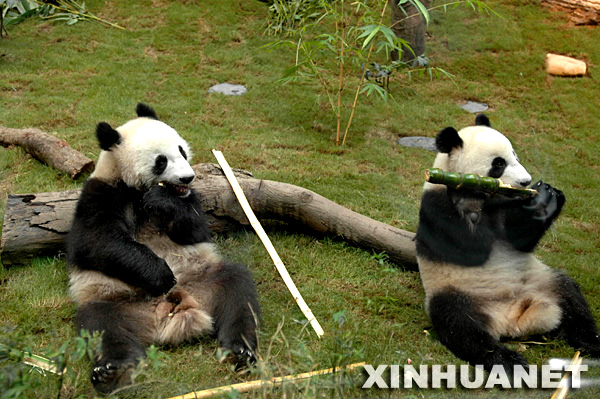panda: (64, 96, 266, 396), (414, 113, 600, 370)
